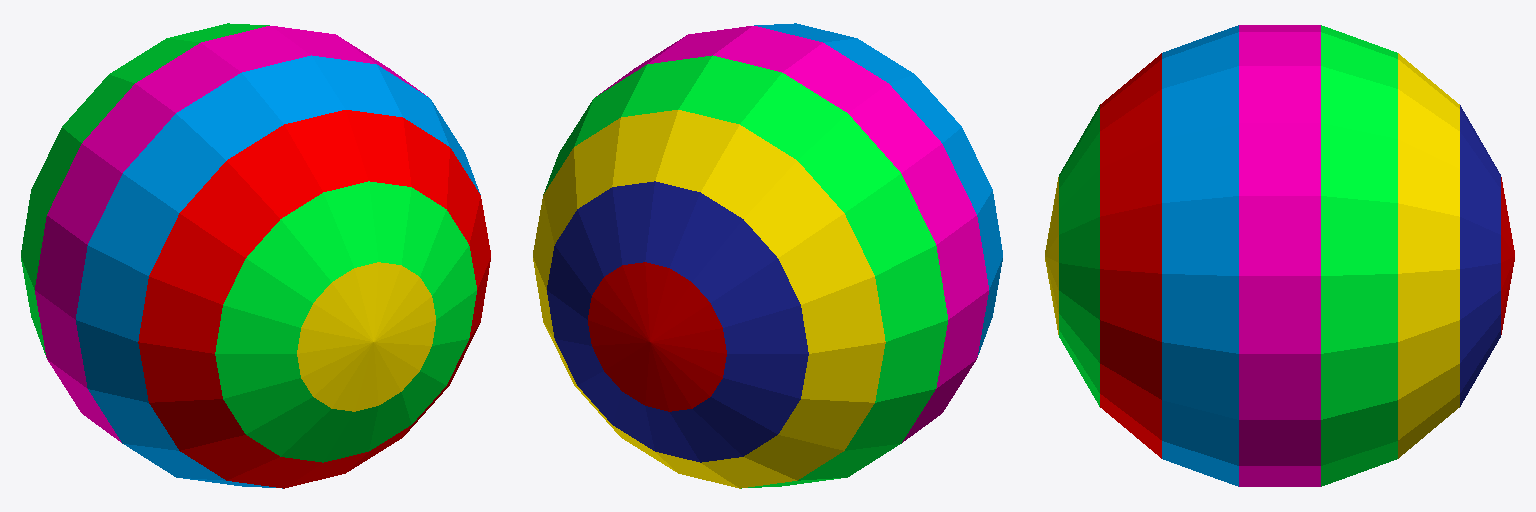
The model's file is ball.obj.
The picture shows the model from 3 angles: view 1: azimuth 30°, elevation 25°; view 2: azimuth 150°, elevation 25°; view 3: azimuth 270°, elevation 25°; orthographic projection.
Visible parts, largest first — view 1: s7, s8, s6, s5, s9, s4; view 2: s3, s2, s4, s5, s1, s6; view 3: s5, s4, s6, s3, s7, s2, s8, s1, s9.
Boxes of the visible parts, x1=… form: s7: x1=138, y1=110, x2=490, y2=488; s8: x1=215, y1=181, x2=476, y2=462; s6: x1=76, y1=55, x2=480, y2=488; s5: x1=35, y1=26, x2=427, y2=442; s9: x1=297, y1=262, x2=435, y2=411; s4: x1=21, y1=23, x2=269, y2=357; s3: x1=533, y1=110, x2=885, y2=488; s2: x1=547, y1=181, x2=808, y2=462; s4: x1=543, y1=55, x2=947, y2=488; s5: x1=596, y1=26, x2=988, y2=442; s1: x1=588, y1=262, x2=726, y2=411; s6: x1=754, y1=23, x2=1002, y2=357; s5: x1=1239, y1=25, x2=1320, y2=486; s4: x1=1321, y1=25, x2=1397, y2=486; s6: x1=1162, y1=25, x2=1238, y2=486; s3: x1=1398, y1=53, x2=1459, y2=458; s7: x1=1100, y1=53, x2=1161, y2=458; s2: x1=1460, y1=105, x2=1500, y2=406; s8: x1=1059, y1=105, x2=1099, y2=406; s1: x1=1501, y1=177, x2=1514, y2=334; s9: x1=1045, y1=177, x2=1058, y2=334.
Bounding box in the file's own units: 86.92 × 85.6 × 88.26.